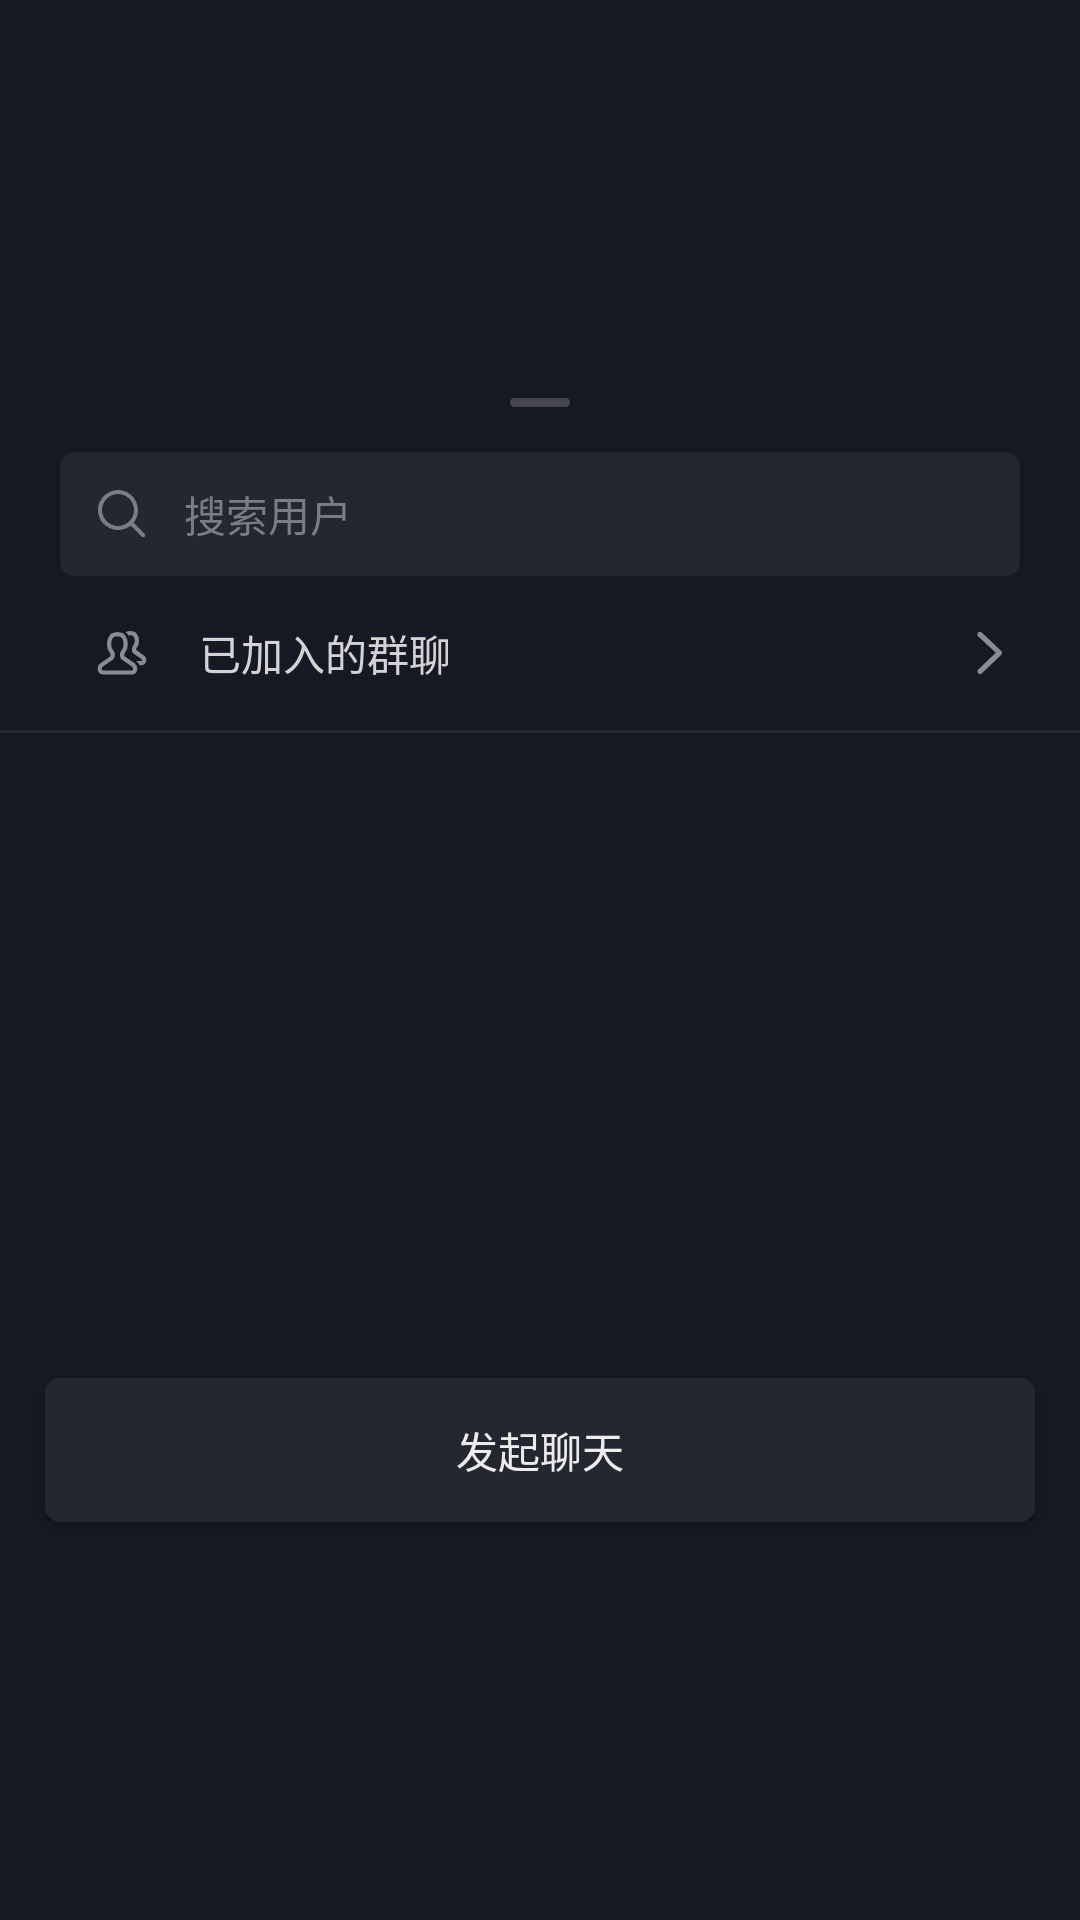

Icon click points for this 1080×1920 phone screenshot, format point (x, y):
right: point (989, 653)
search: point (121, 513)
